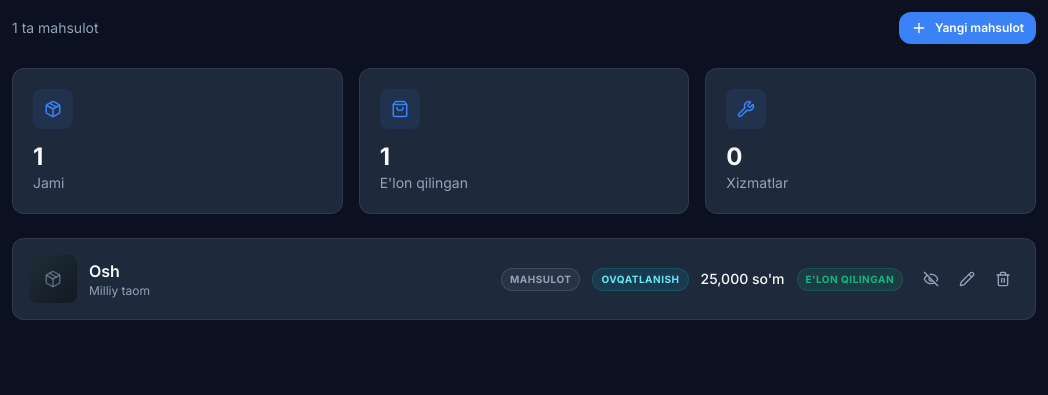
Test: InventoryView (owner catalog) › deactivates a published item through PATCH isActive:false
expect the text "Osh" is shown: met, box x1=89 y1=261 x2=120 y2=281
Click the button named "Yashirish".
click(931, 279)  # box x1=915 y1=263 x2=947 y2=295
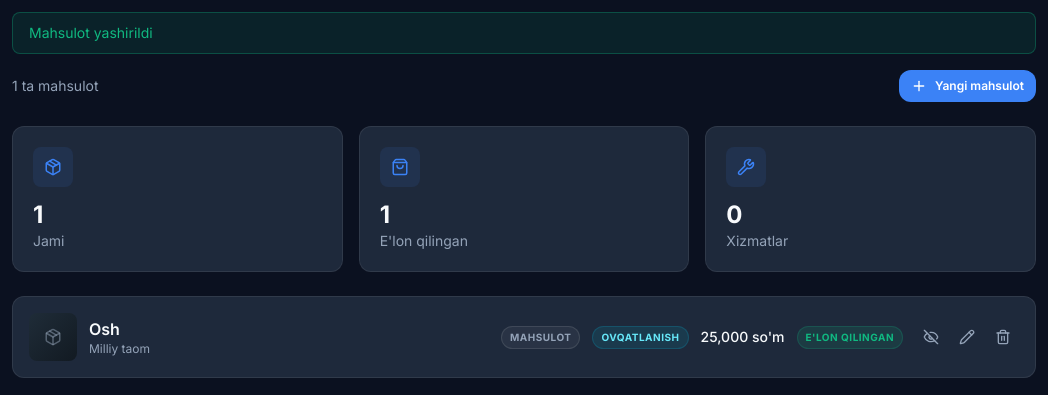
expect the text "Mahsulot yashirildi" is shown: met, box x1=12 y1=12 x2=1036 y2=54
